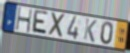0: (100, 21, 115, 46)
4: (66, 15, 80, 41)
E: (30, 9, 49, 37)
H: (15, 6, 33, 35)
K: (83, 17, 98, 43)
X: (48, 11, 67, 39)
